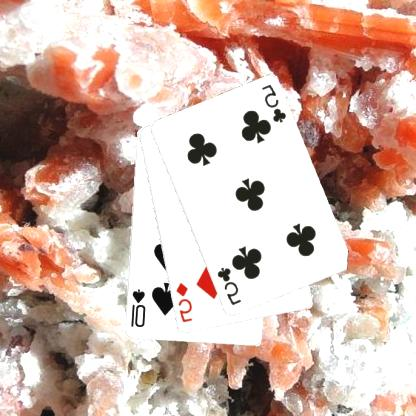10S: (129, 286, 148, 330)
5C: (216, 265, 244, 307), (261, 82, 289, 124)
5D: (175, 280, 195, 324)
